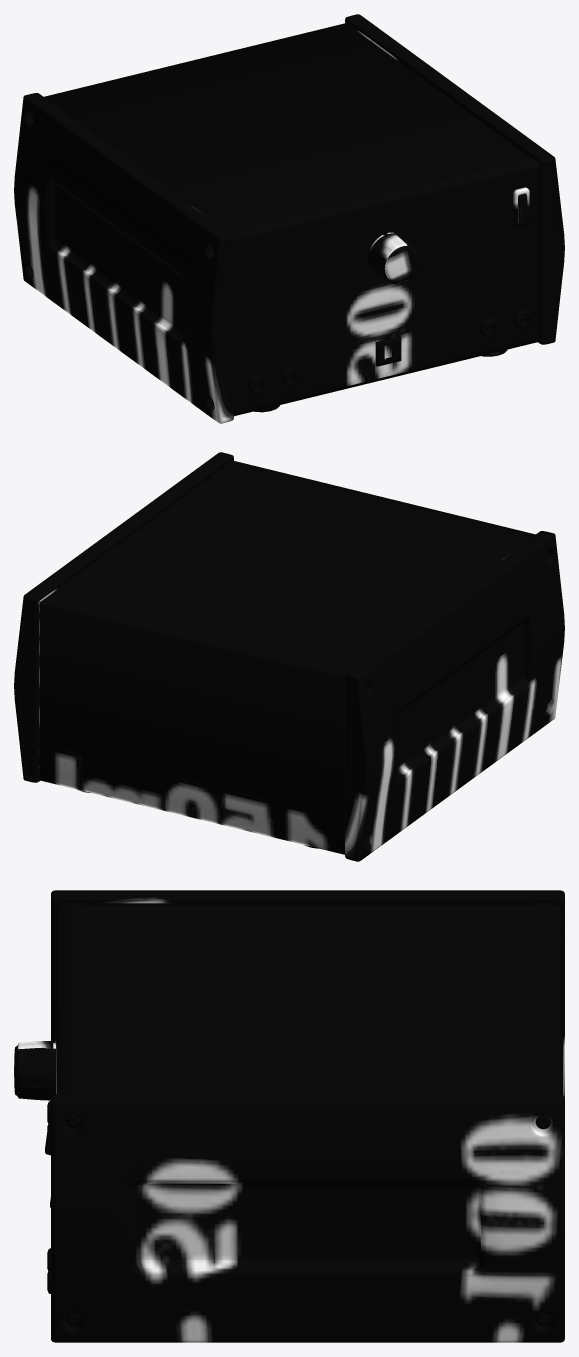
Rendered from PowerSupply_Final.fbx.
3 views of the same model, one above another, from view 1: azimuth 30°, elevation 25°; view 2: azimuth 150°, elevation 25°; view 3: azimuth 270°, elevation 25° (orthographic). The views are drawn at different scales.
Parts seen in each view (by area): view 1: Circle.002, power_supply_control; view 2: Circle.002; view 3: Circle.002, power_supply_control.
Part boxes in pixels (bbox=[...]): Circle.002: bbox=[14, 14, 564, 423]; power_supply_control: bbox=[368, 230, 420, 284]; Circle.002: bbox=[14, 452, 564, 861]; Circle.002: bbox=[51, 890, 564, 1342]; power_supply_control: bbox=[14, 1037, 55, 1100].
Size of the model in its own units: 194 by 97.8 by 200.
